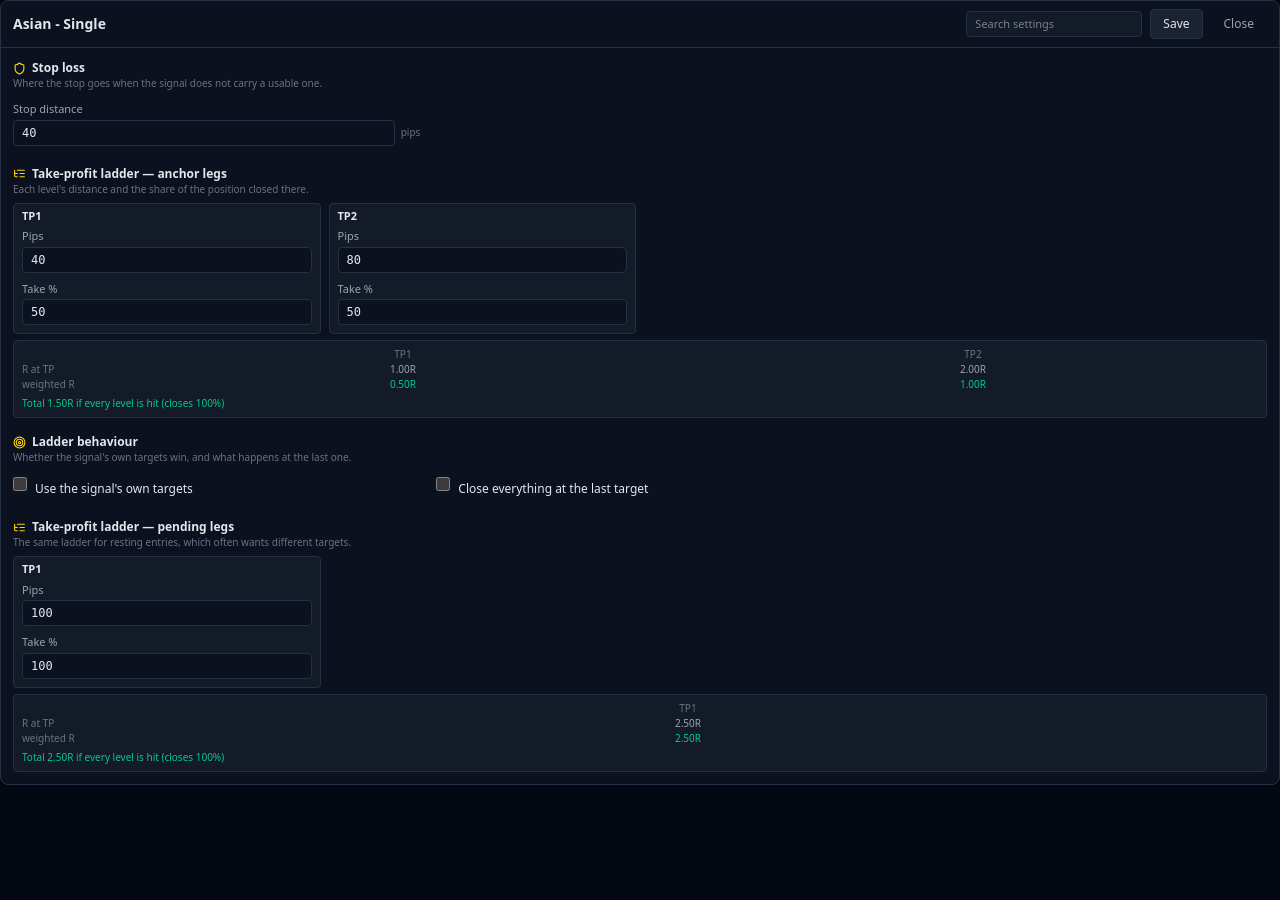
the readout follows the form › re-values every ladder when the stop changes
Replace the text in the field labelled "Stop distance" with "20" at (204, 132), box [13,120,395,146]
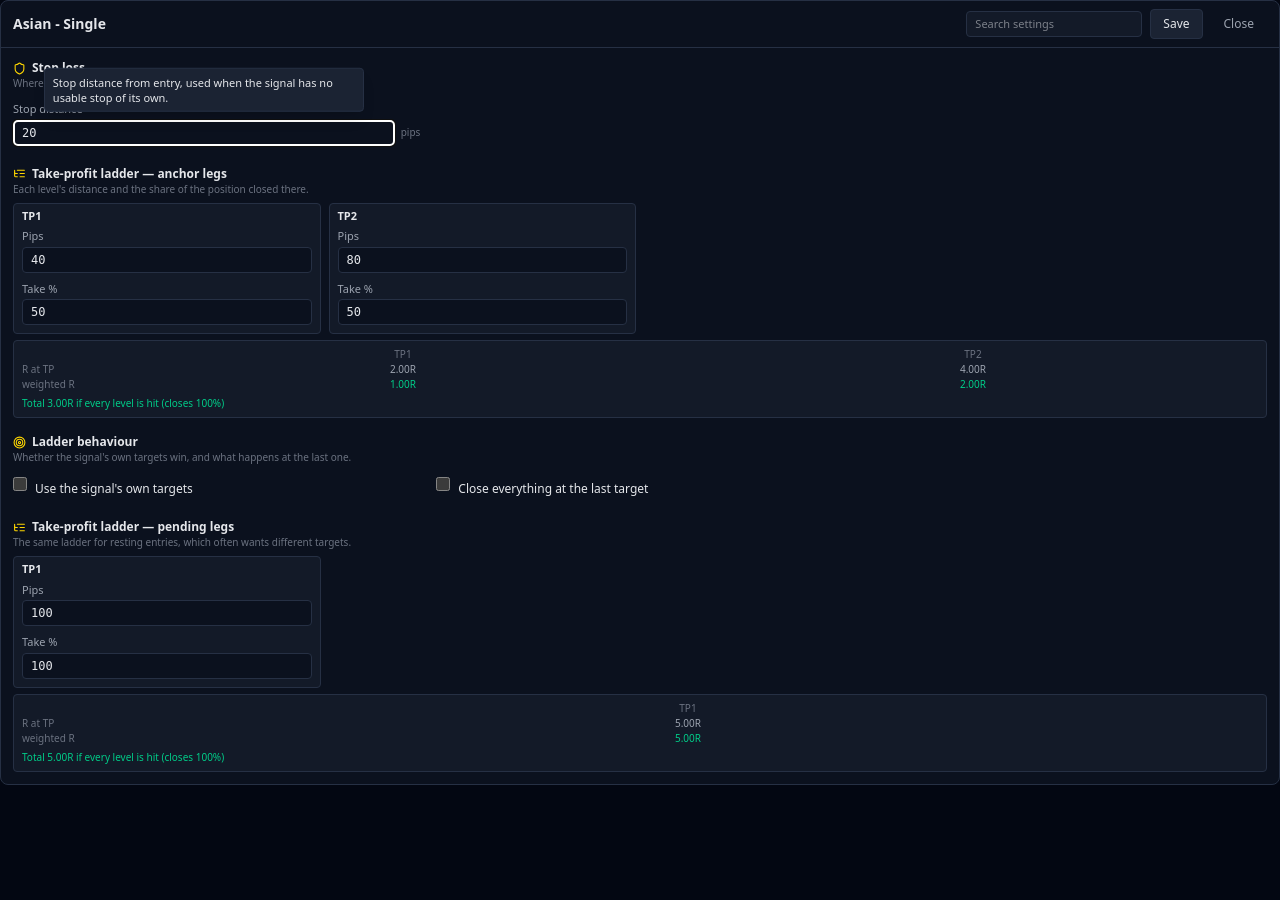
Expected: the text with test id "rr-summary-tp" shows "3.00R", [22,396,224,410]
Expected: the text with test id "rr-summary-tp_pen" shows "5.00R", [22,750,224,764]
